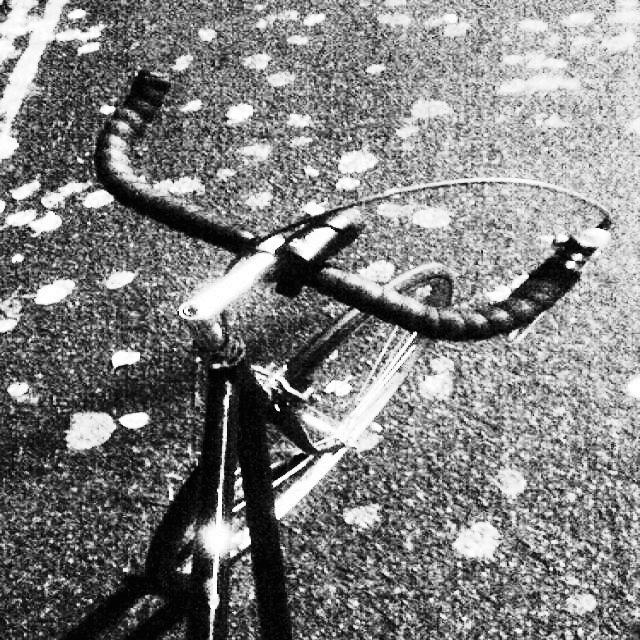Bicycle: (74, 81, 623, 640)
